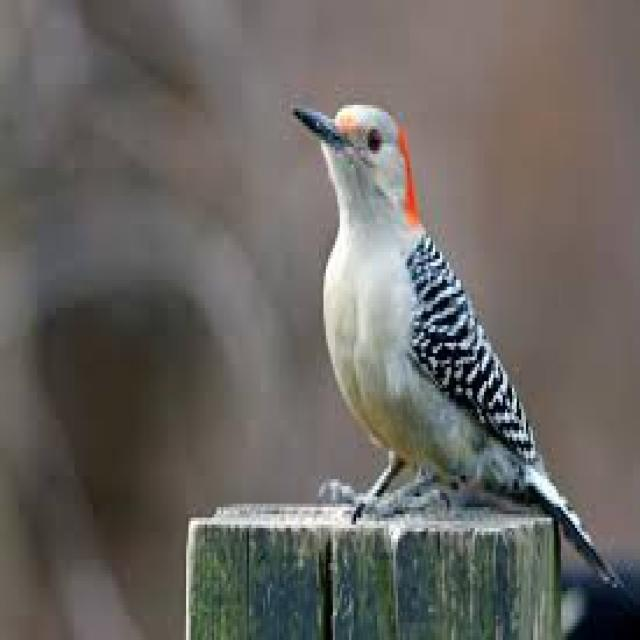Woodpecker: (285, 92, 622, 581)
